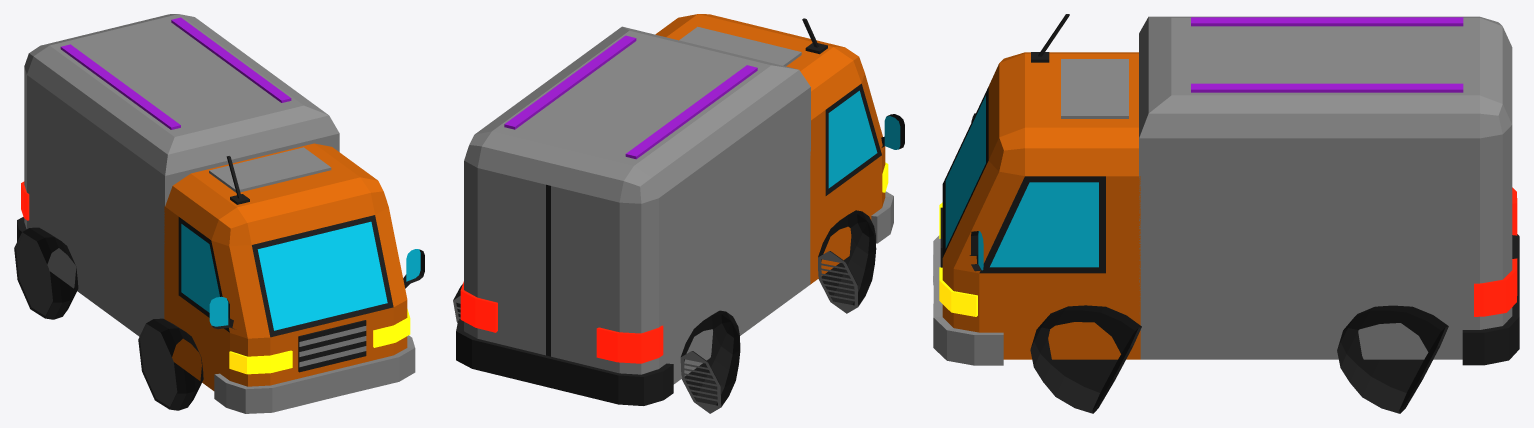
Rendered from gruzovik.fbx.
3 views of the same model, side by side, from view 1: azimuth 30°, elevation 25°; view 2: azimuth 150°, elevation 25°; view 3: azimuth 270°, elevation 25° (orthographic). The views are drawn at different scales.
Visible parts, largest first — view 1: Куб.001, Куб.004, Куб.005; view 2: Куб.001, Куб.005, Куб.004; view 3: Куб.001, Куб.002, Куб.003.
Part boxes in pixels (x1,y1,x2,y2): Куб.001: (17, 14, 424, 413); Куб.004: (138, 318, 203, 410); Куб.005: (14, 227, 78, 319); Куб.001: (456, 14, 904, 405); Куб.005: (680, 310, 740, 413); Куб.004: (818, 210, 876, 313); Куб.001: (933, 14, 1519, 365); Куб.002: (1337, 305, 1448, 413); Куб.003: (1030, 305, 1141, 413).
Size of the model in its own units: 138 by 136 by 236.
